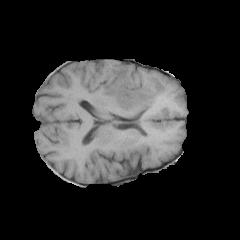glioma: (101, 67, 166, 115)
